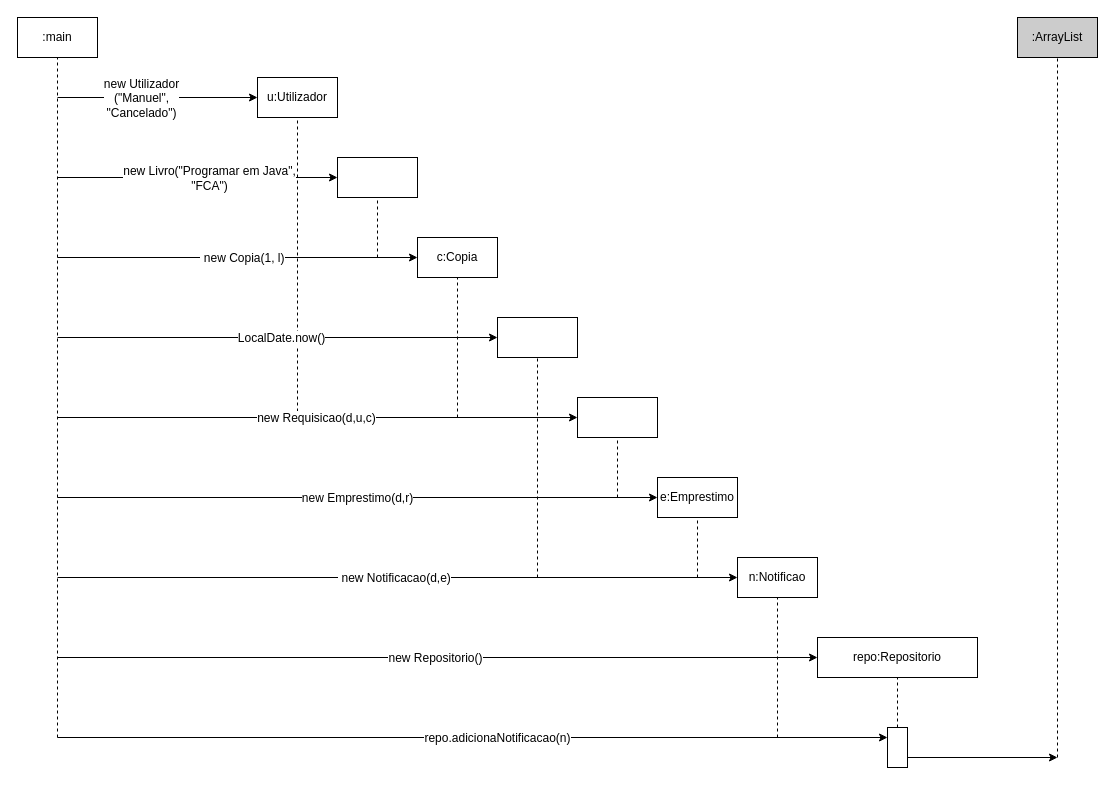
Image size: 1115x785. Some labels were removed from this diagram. Here are the shapes that lost their labels. From the top down, the box of each, then its label:
(336, 156, 418, 198): l:Livro
(496, 316, 578, 358): d:LocalDate
(576, 396, 658, 438): r:Requisicao
